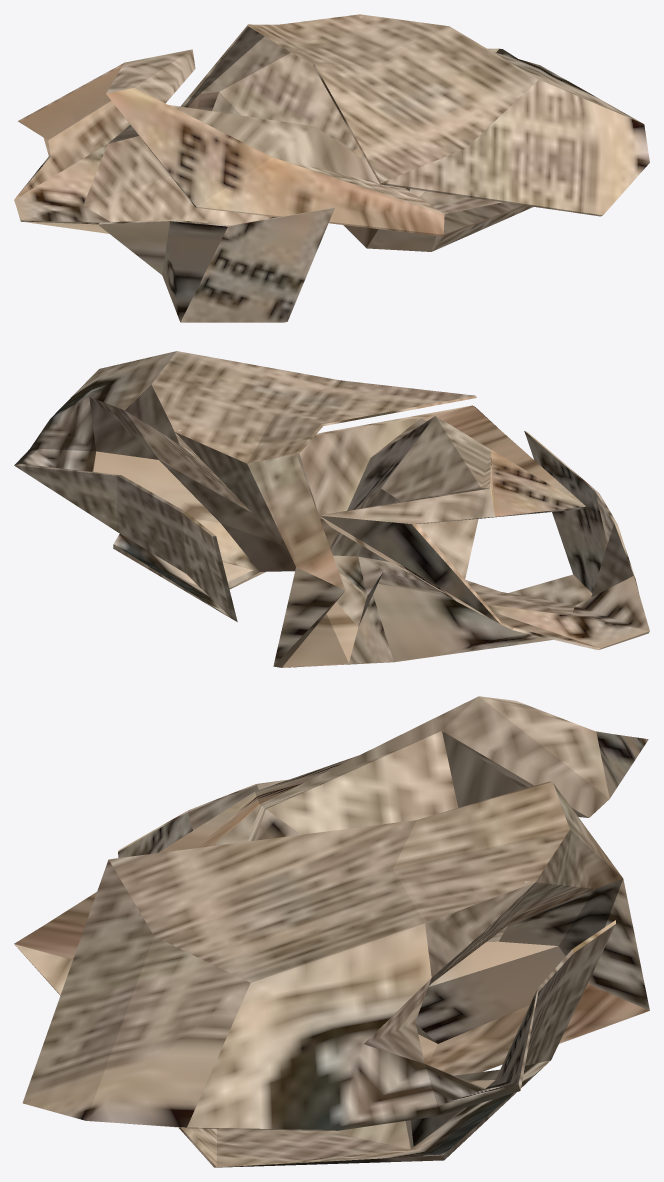
Rendered from papir3.fbx.
The picture shows the model from 3 angles, top to bottom: view 1: azimuth 30°, elevation 25°; view 2: azimuth 150°, elevation 25°; view 3: azimuth 270°, elevation 25°; orthographic projection. The views are drawn at different scales.
Visible parts, largest first — view 1: Plane.001; view 2: Plane.001; view 3: Plane.001.
Boxes of the visible parts, x1=… form: Plane.001: x1=14, y1=14, x2=649, y2=322; Plane.001: x1=14, y1=351, x2=649, y2=667; Plane.001: x1=14, y1=696, x2=649, y2=1167.
Bounding box in the file's own units: 27.15 × 17.59 × 9.32.
Materials: 1 (1 with a texture image).
